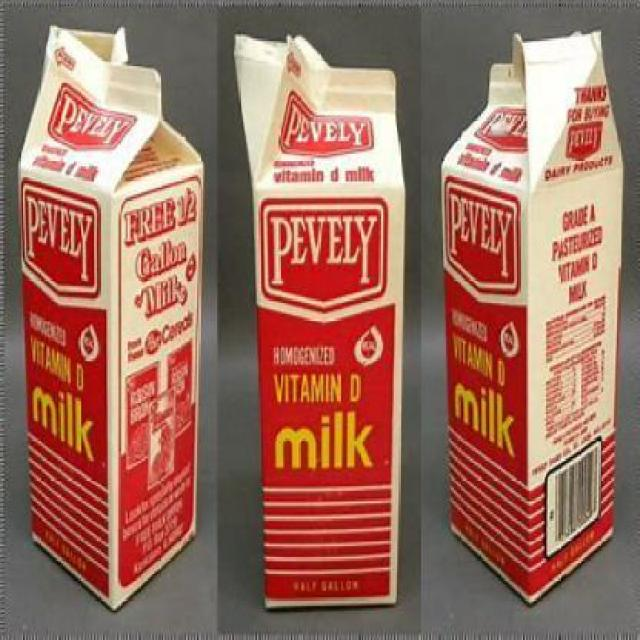drink carton: (18, 23, 206, 614), (437, 28, 618, 608), (231, 34, 405, 612)
